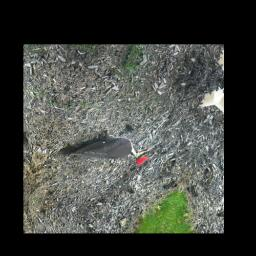Woodpecker: (56, 116, 160, 180)
